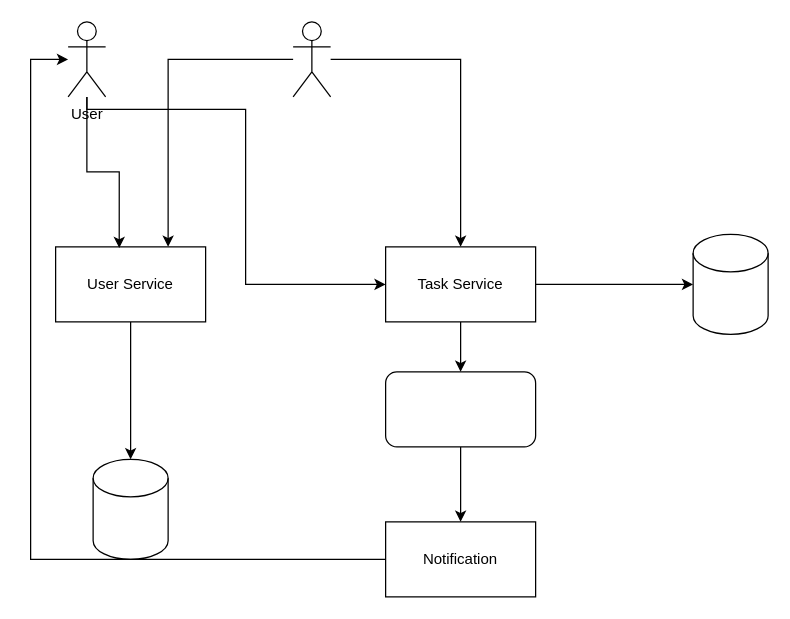
This 790x619 diagram has some shape labels left out. Each missing label, with the centre of its shape:
"Notification Quie" belongs at point (460, 409).
"Tech" belongs at point (311, 59).
